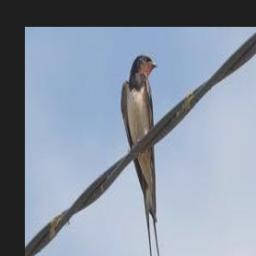Swallow: (121, 55, 164, 256)
